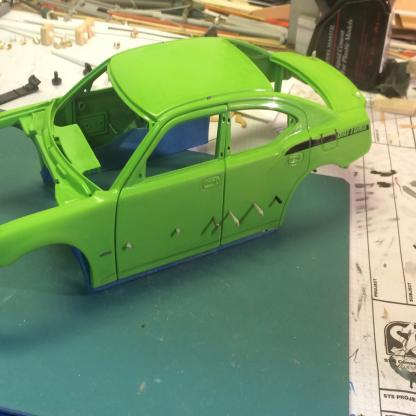Car: (0, 32, 372, 293)
